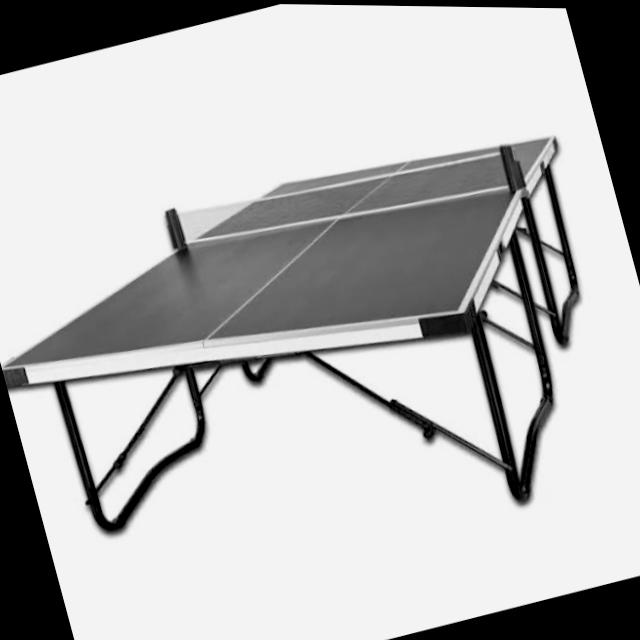TT Net: (165, 146, 523, 248)
TT Table: (2, 137, 554, 366)
